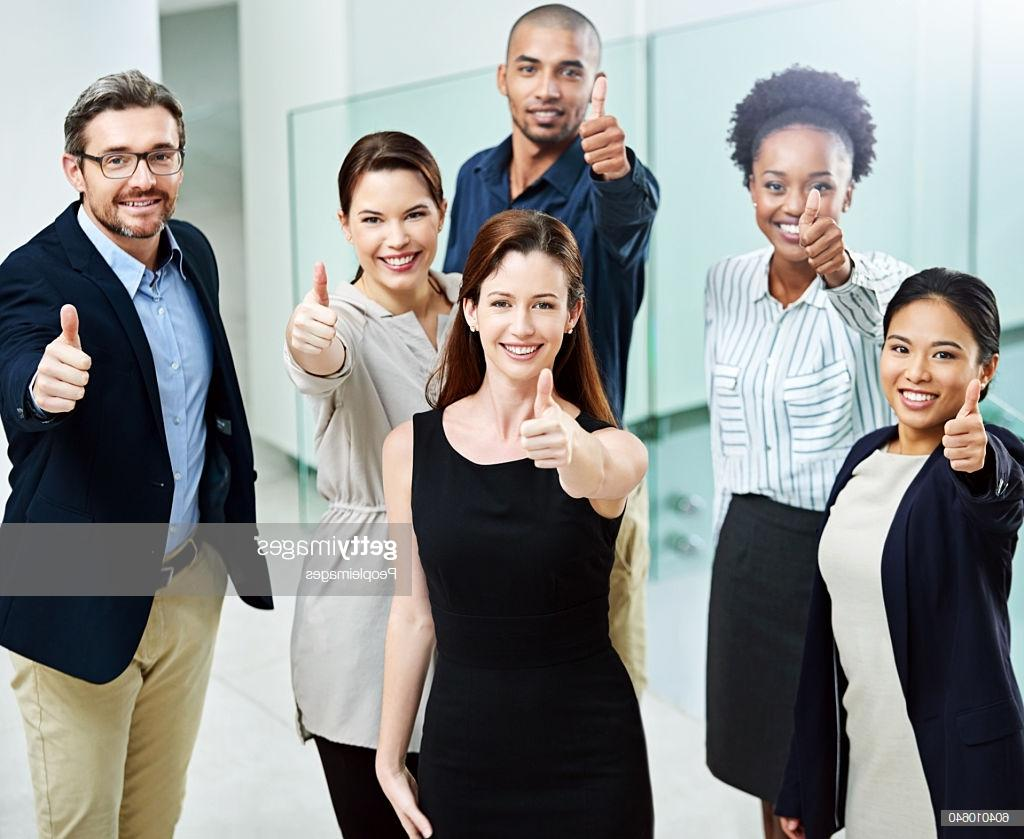thumbsup: (34, 303, 92, 413), (519, 367, 573, 468), (579, 76, 626, 174), (290, 261, 338, 355), (942, 379, 988, 471), (800, 188, 846, 274)
